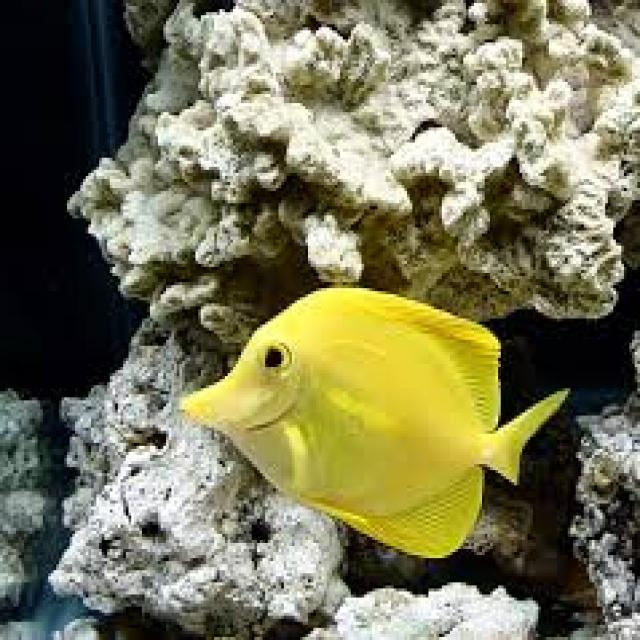YellowTang: (156, 242, 578, 575)
